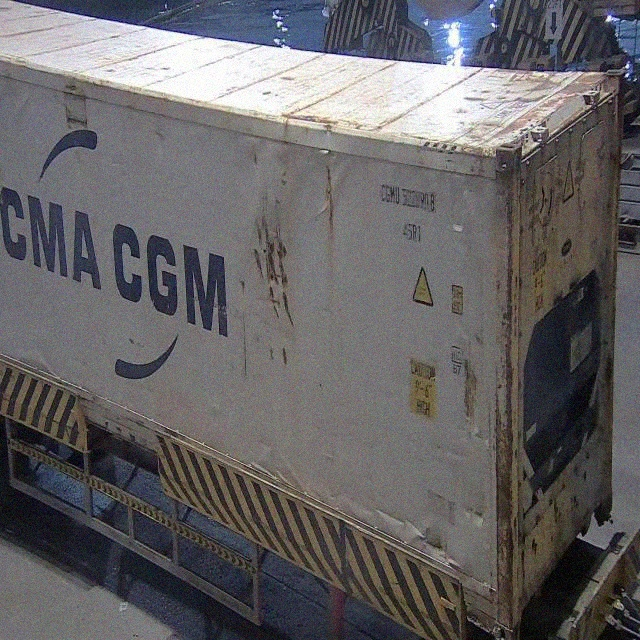Dent: (248, 203, 296, 370), (317, 159, 339, 239)
